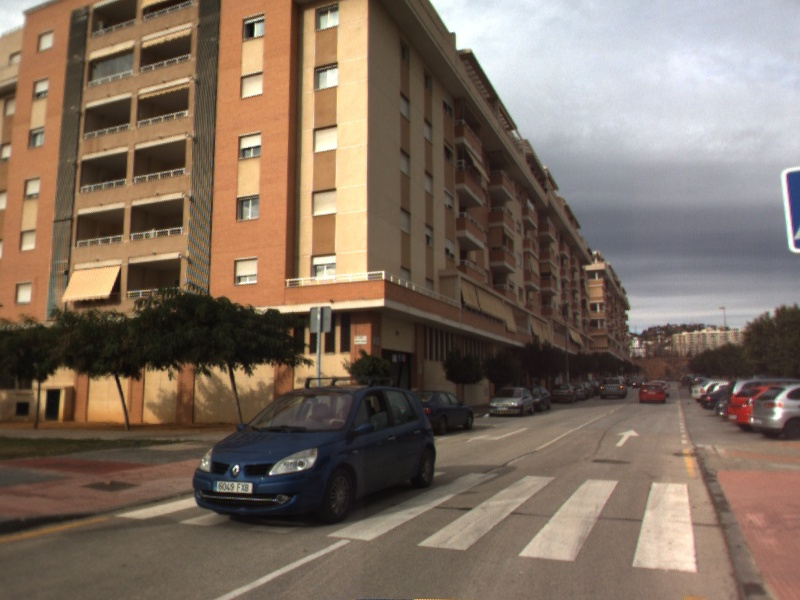STRAIGHT: (613, 427, 641, 449)
